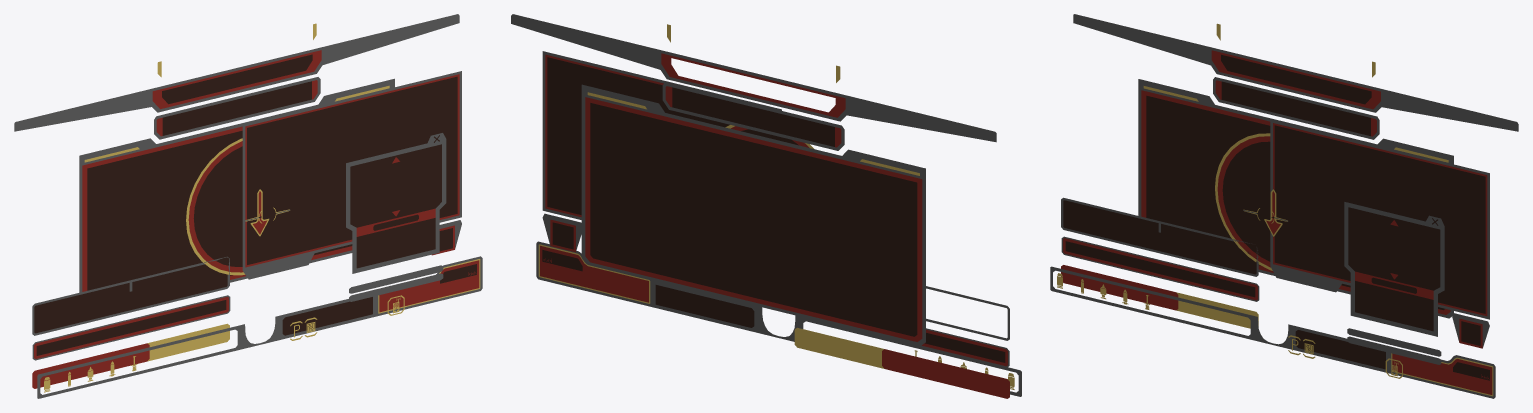
Rendered from Zerahypt Interface.dae.
3 views of the same model, side by side, from view 1: azimuth 30°, elevation 25°; view 2: azimuth 150°, elevation 25°; view 3: azimuth 330°, elevation 25° (orthographic). The views are drawn at different scales.
Parts seen in each view (by area): view 1: ZerahyptSlotsModel, ZerahyptMapViewerModel2, ZerahyptVesselList, ZerahyptMapViewerModel, ZerahyptInterfaceModel, ZerahyptObjectInfoWindow, ZerahyptTutWindow, ZerahyptTutstart, ZerahyptAmmoModels, ZerahyptAssistanceDark; view 2: ZerahyptMapViewerModel2, ZerahyptSlotsModel, ZerahyptInterfaceModel, ZerahyptMapViewerModel, ZerahyptAmmoModels, ZerahyptTutstart, ZerahyptObjectInfoWindow; view 3: ZerahyptSlotsModel, ZerahyptMapViewerModel2, ZerahyptVesselList, ZerahyptMapViewerModel, ZerahyptInterfaceModel, ZerahyptObjectInfoWindow, ZerahyptTutWindow, ZerahyptTutstart, ZerahyptAmmoModels, ZerahyptAssistanceDark.
Boxes of the visible parts, bbox=[...] form: ZerahyptSlotsModel: bbox=[242, 71, 461, 279]; ZerahyptMapViewerModel2: bbox=[79, 77, 394, 292]; ZerahyptVesselList: bbox=[346, 133, 446, 273]; ZerahyptMapViewerModel: bbox=[14, 14, 459, 131]; ZerahyptInterfaceModel: bbox=[37, 256, 482, 398]; ZerahyptObjectInfoWindow: bbox=[32, 256, 229, 335]; ZerahyptTutWindow: bbox=[186, 138, 244, 275]; ZerahyptTutstart: bbox=[32, 295, 230, 360]; ZerahyptAmmoModels: bbox=[32, 323, 229, 392]; ZerahyptAssistanceDark: bbox=[349, 265, 443, 301]; ZerahyptMapViewerModel2: bbox=[581, 82, 925, 345]; ZerahyptSlotsModel: bbox=[542, 51, 781, 252]; ZerahyptInterfaceModel: bbox=[536, 241, 1021, 396]; ZerahyptMapViewerModel: bbox=[511, 14, 996, 142]; ZerahyptAmmoModels: bbox=[794, 327, 1014, 398]; ZerahyptTutstart: bbox=[796, 315, 1009, 367]; ZerahyptObjectInfoWindow: bbox=[926, 286, 1009, 340]; ZerahyptSlotsModel: bbox=[1270, 119, 1489, 348]; ZerahyptMapViewerModel2: bbox=[1138, 77, 1453, 318]; ZerahyptVesselList: bbox=[1344, 202, 1444, 336]; ZerahyptMapViewerModel: bbox=[1073, 14, 1518, 131]; ZerahyptInterfaceModel: bbox=[1050, 266, 1495, 398]; ZerahyptObjectInfoWindow: bbox=[1061, 197, 1258, 276]; ZerahyptTutWindow: bbox=[1215, 133, 1272, 270]; ZerahyptTutstart: bbox=[1061, 236, 1259, 301]; ZerahyptAmmoModels: bbox=[1057, 265, 1258, 328]; ZerahyptAssistanceDark: bbox=[1347, 328, 1441, 364].
Size of the model in its own units: 33.49 by 3.96 by 20.49.
